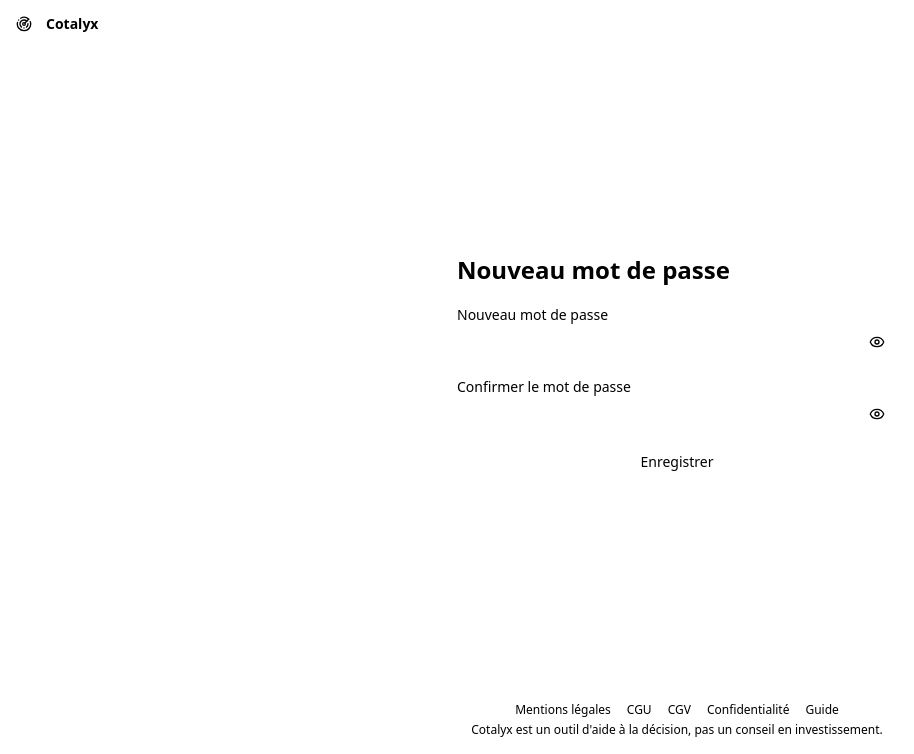
Test: réinitialisation : confirmation différente refusée, lien périmé expliqué
Type "nouveau-mot-de-passe" into the password field labelled "Nouveau mot de passe" at [677, 342], box left=457, top=326, right=897, bottom=358
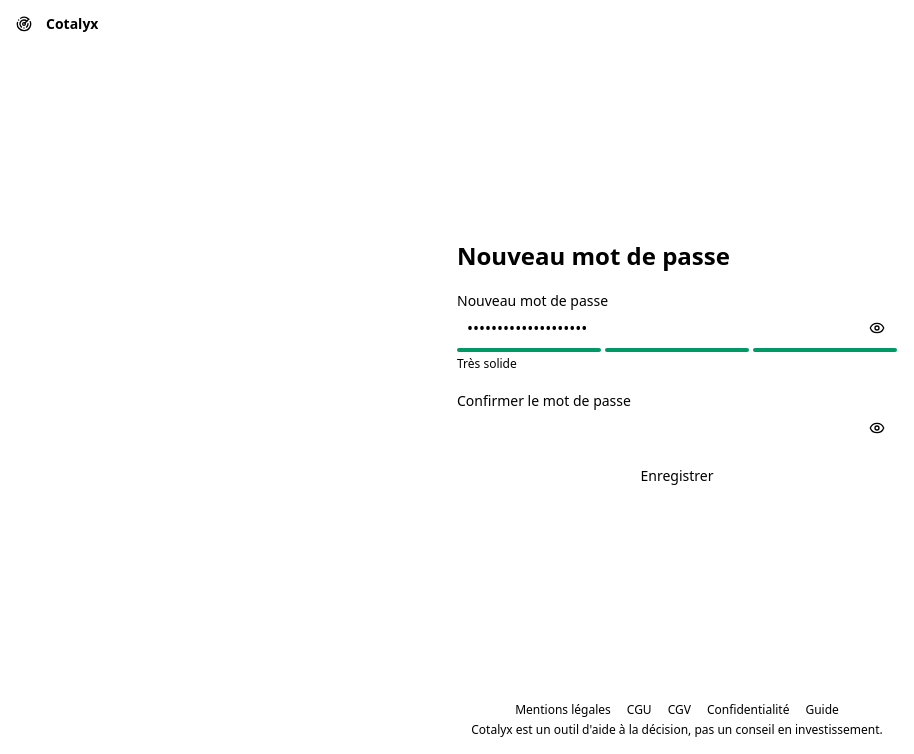
Type "autre-mot-de-passe!" into the password field labelled "Confirmer le mot de passe" at [677, 428], box left=457, top=412, right=897, bottom=444
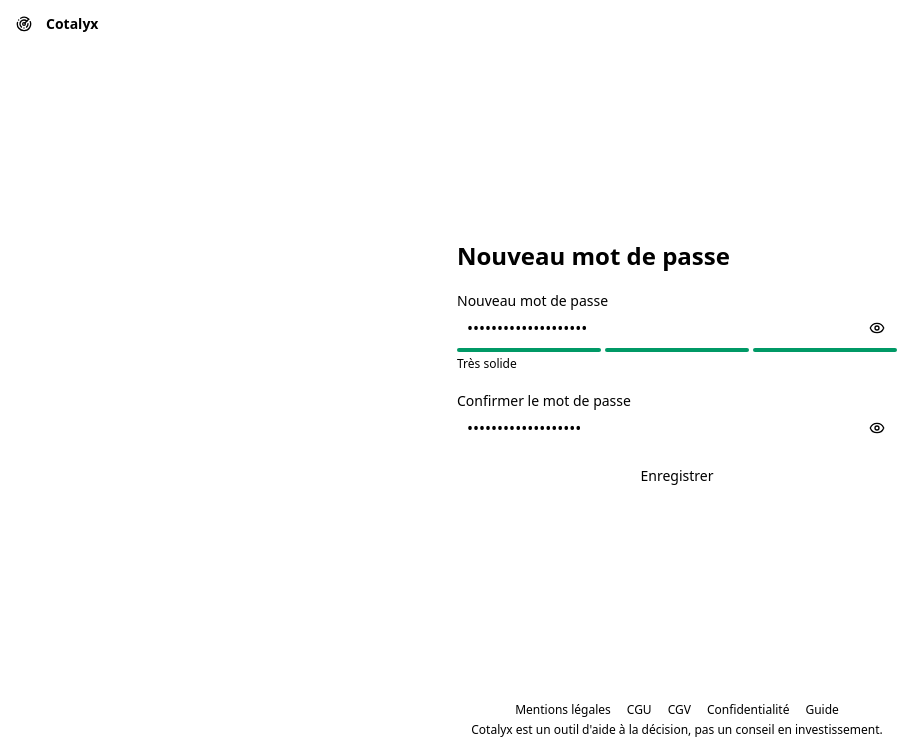
Click the button "Enregistrer" at [677, 476], box left=457, top=460, right=897, bottom=492
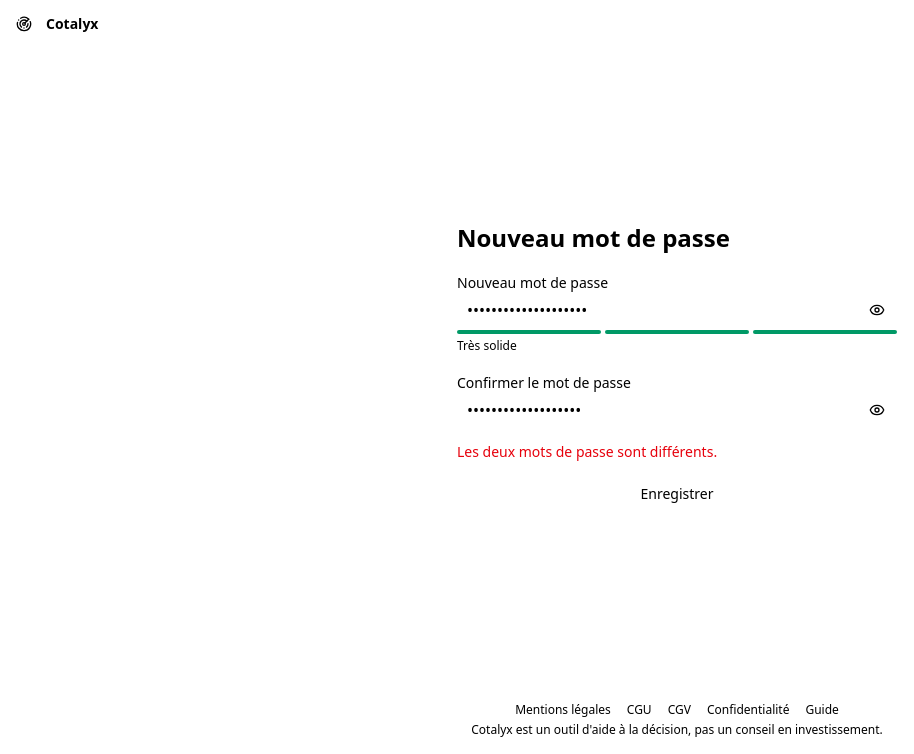
Result: the message reads "Les deux mots de passe sont différents." at left=457, top=442, right=717, bottom=461
Type "nouveau-mot-de-passe" into the password field labelled "Confirmer le mot de passe" at [677, 410], box left=457, top=394, right=897, bottom=426
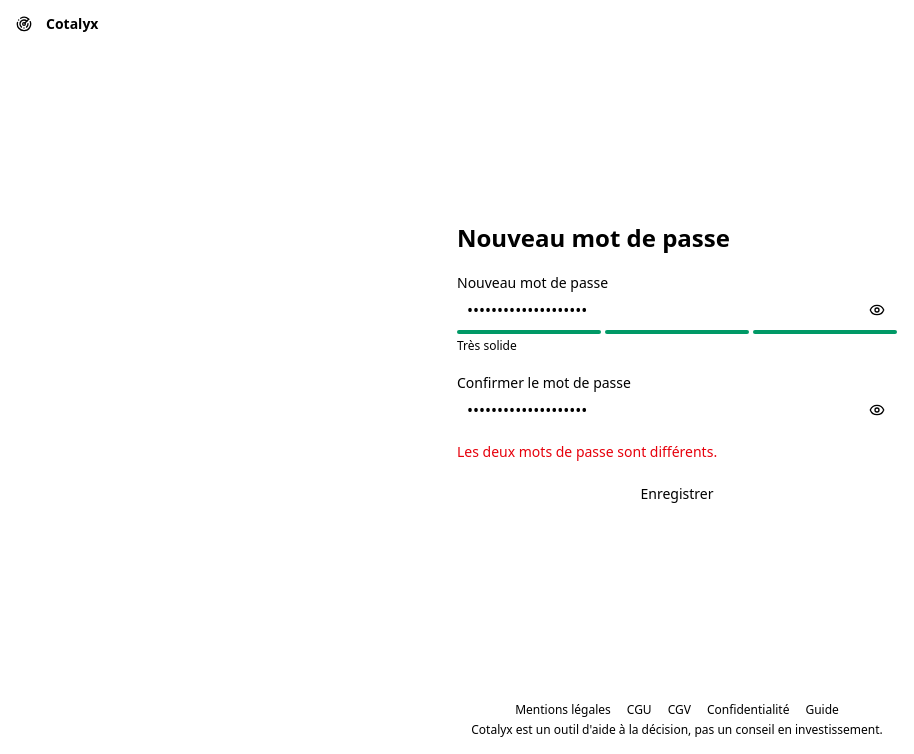
Click the button "Enregistrer" at [677, 494], box left=457, top=478, right=897, bottom=510
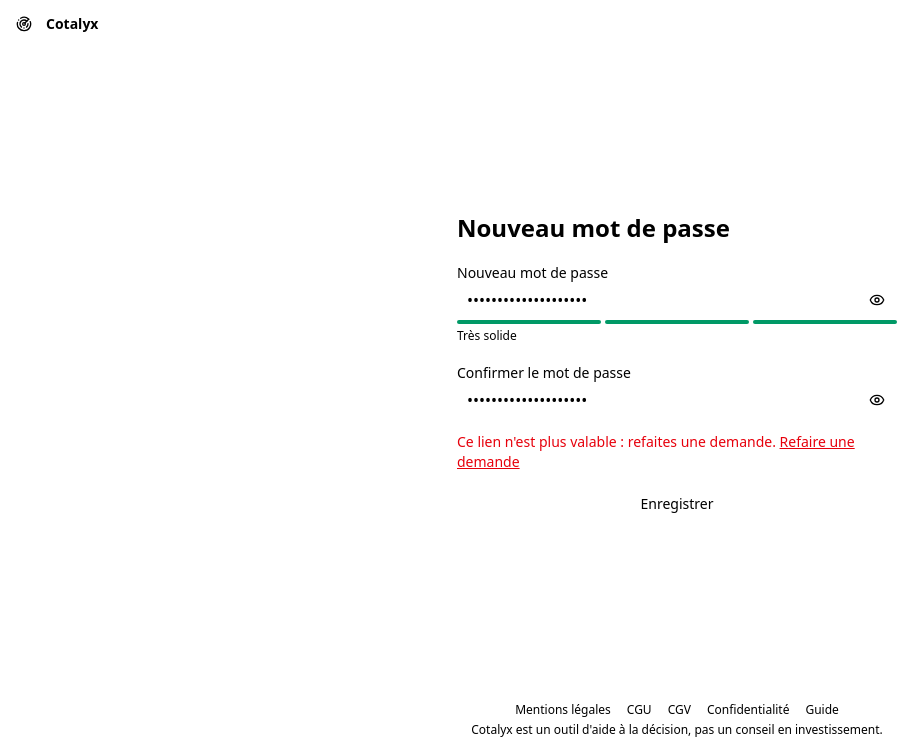
Result: the link "Refaire une demande" is shown at left=457, top=432, right=855, bottom=471
